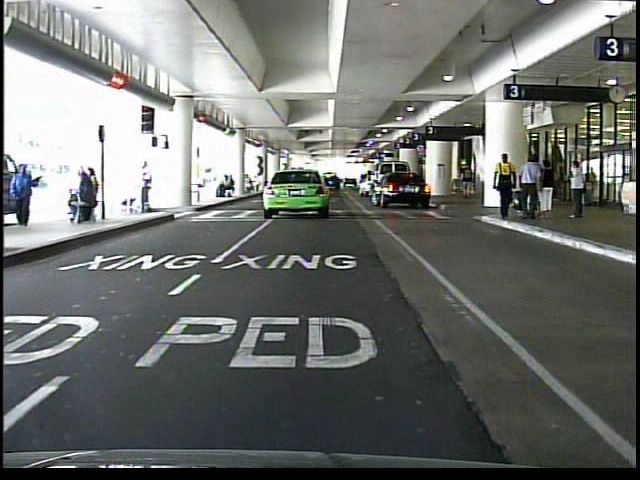person: (488, 151, 518, 227), (14, 160, 47, 225), (563, 157, 593, 228), (129, 160, 158, 222), (518, 150, 540, 226), (538, 159, 554, 224), (457, 160, 479, 205)
